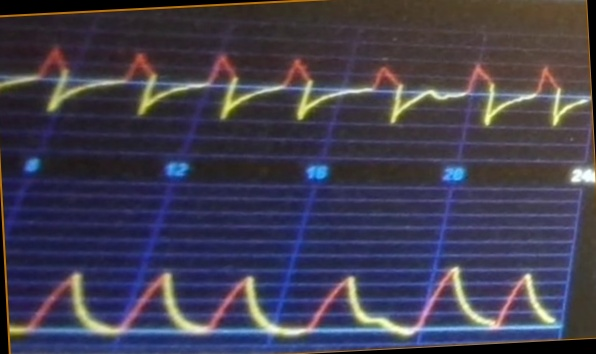Ineffective_effort Flow: (3, 35, 587, 144)
Ineffective_effort Volume: (14, 255, 557, 341)
